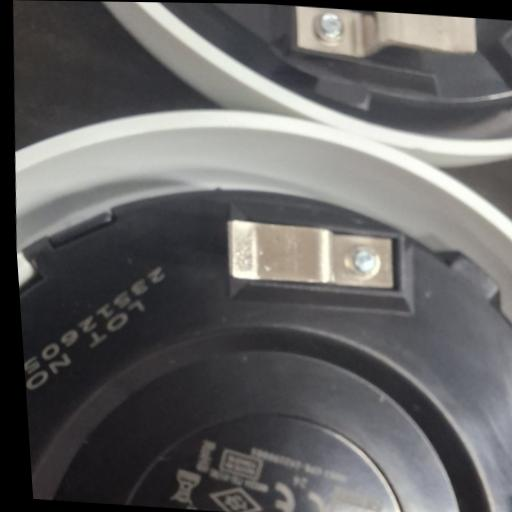yaysiz: (224, 219, 401, 291)
